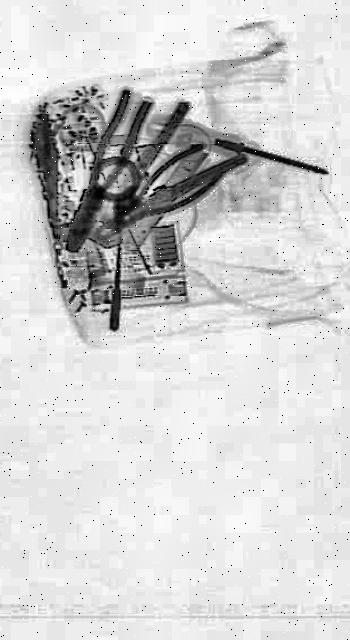Pliers: (71, 70, 249, 286), (59, 79, 155, 271), (98, 129, 228, 261)
